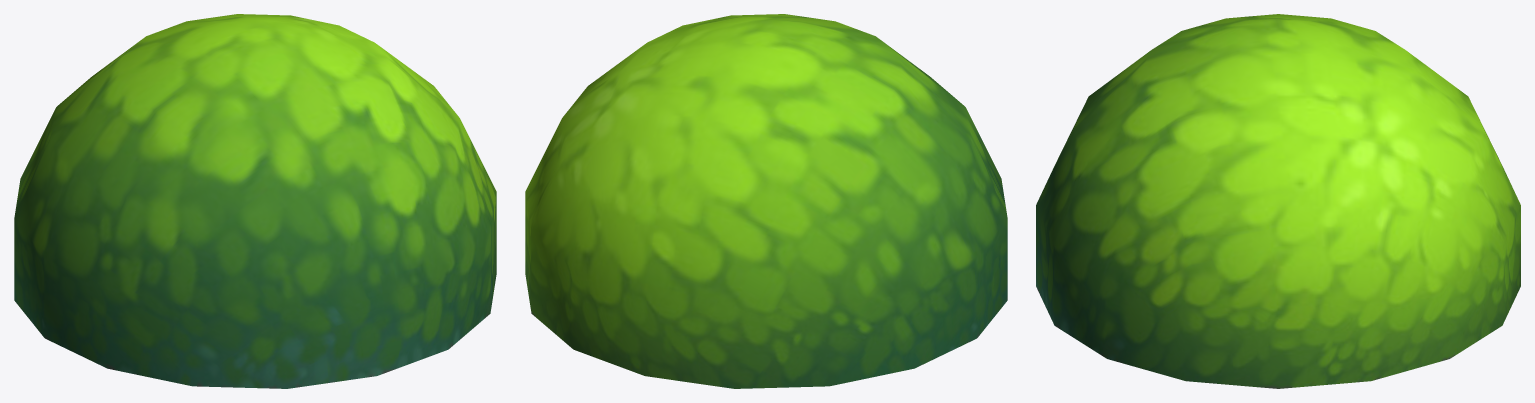
File: bush1.fbx
The picture shows the model from 3 angles, left to right: view 1: azimuth 30°, elevation 25°; view 2: azimuth 150°, elevation 25°; view 3: azimuth 270°, elevation 25°; orthographic projection.
Parts seen in each view (by area): view 1: Bush02; view 2: Bush02; view 3: Bush02.
Boxes of the visible parts, x1,y1,x2,y2 form: Bush02: [14, 14, 496, 388]; Bush02: [525, 14, 1007, 388]; Bush02: [1036, 14, 1520, 388].
Size of the model in its own units: 159 by 90.59 by 159.
1 material, 1 textured.
